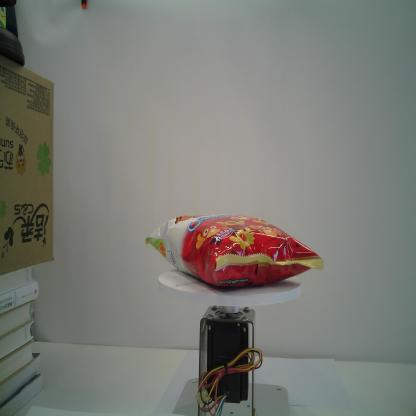Puffed Food: (144, 213, 324, 289)
